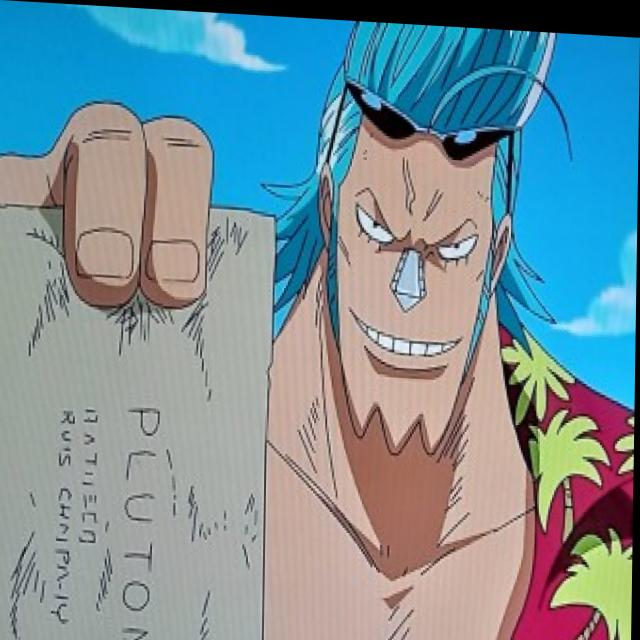Franky: (300, 14, 536, 463)
